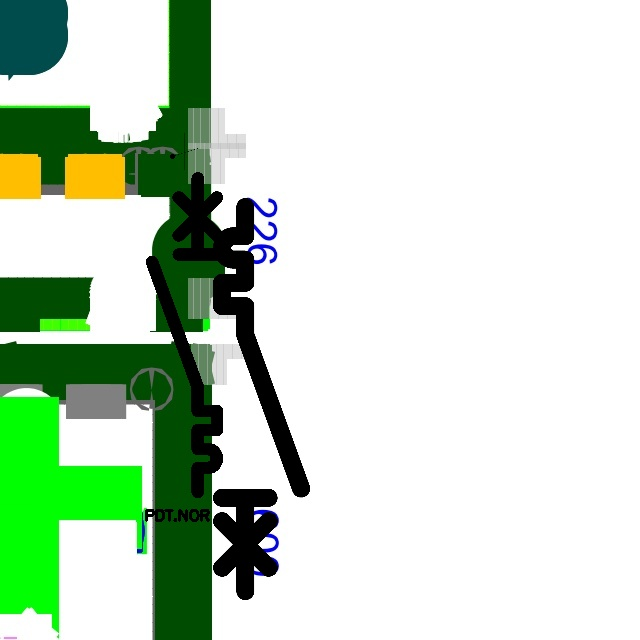interruptor_termomagnetico: (212, 197, 311, 601), (144, 170, 225, 500)
